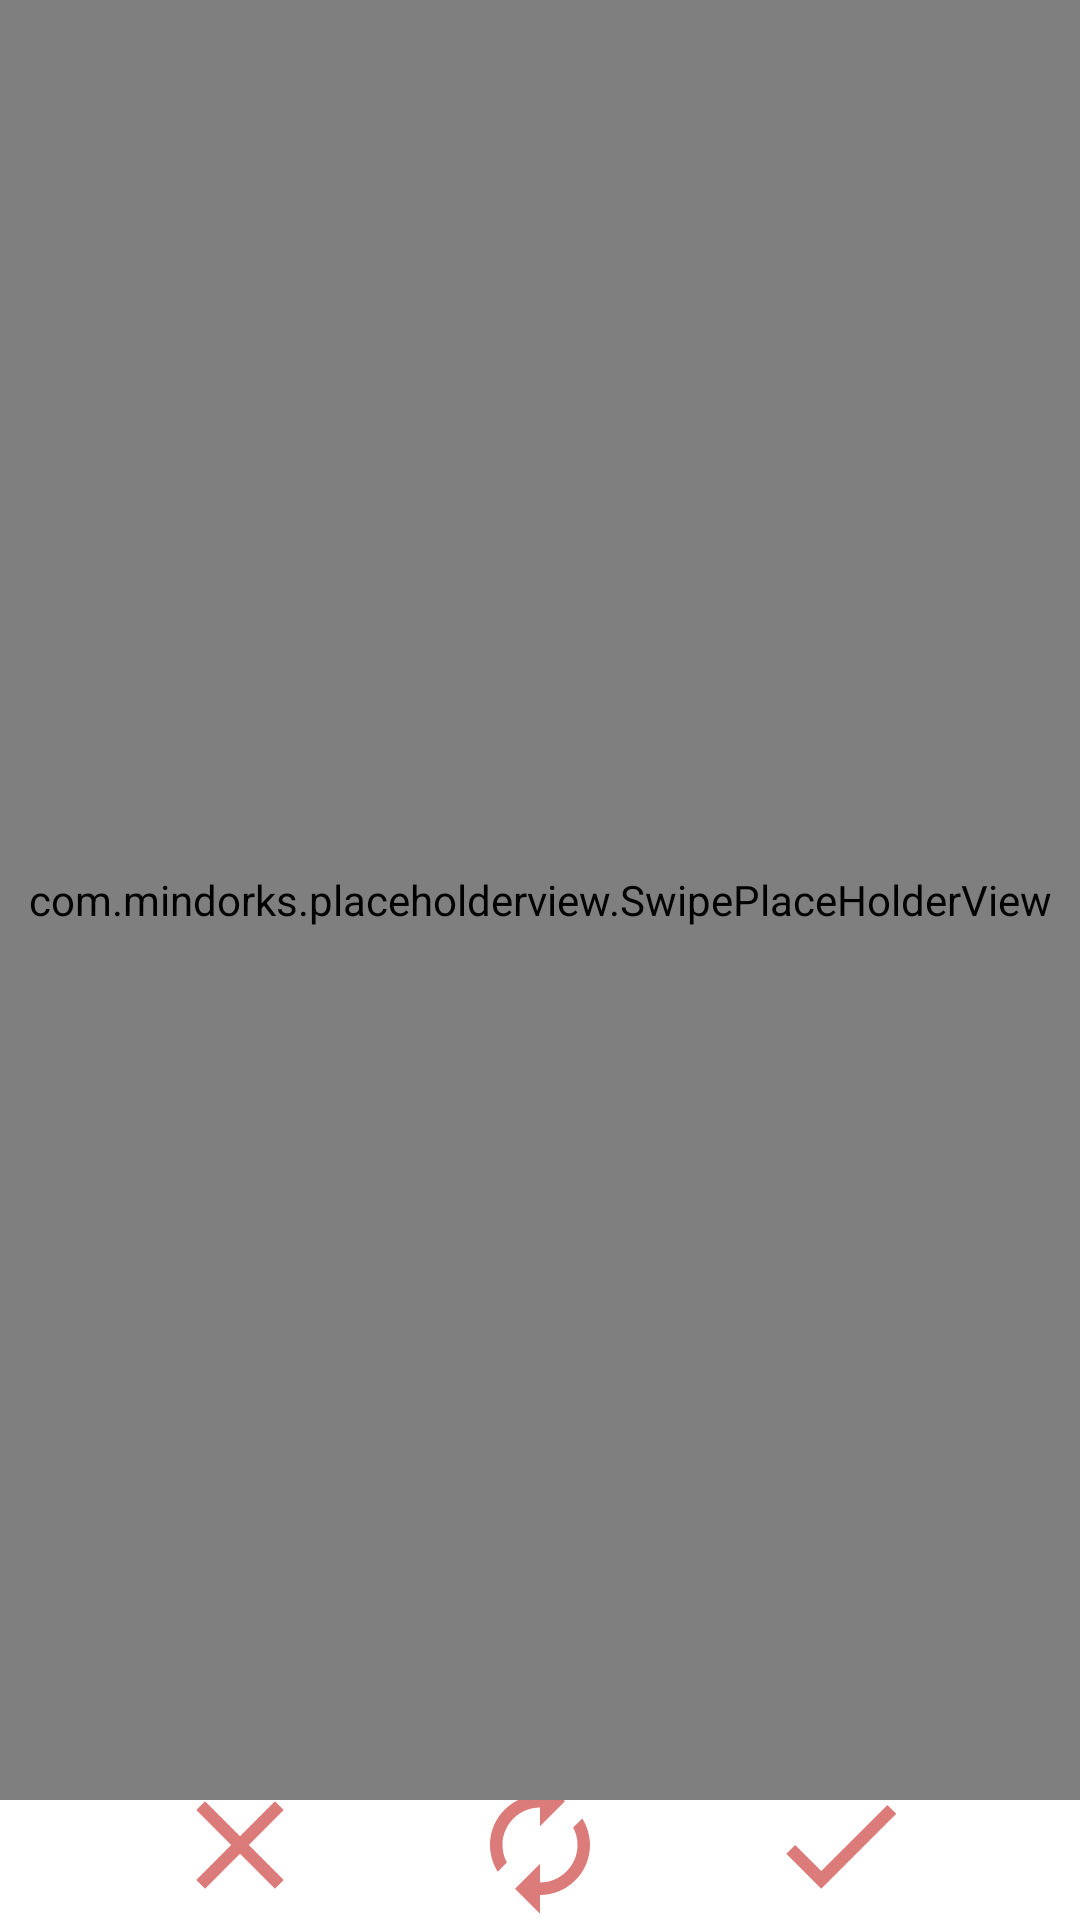

Named icons in this screenshot (1080px x 1920px) and their centers, (x,y):
check: (840,1845)
close: (240,1845)
renew: (540,1845)
